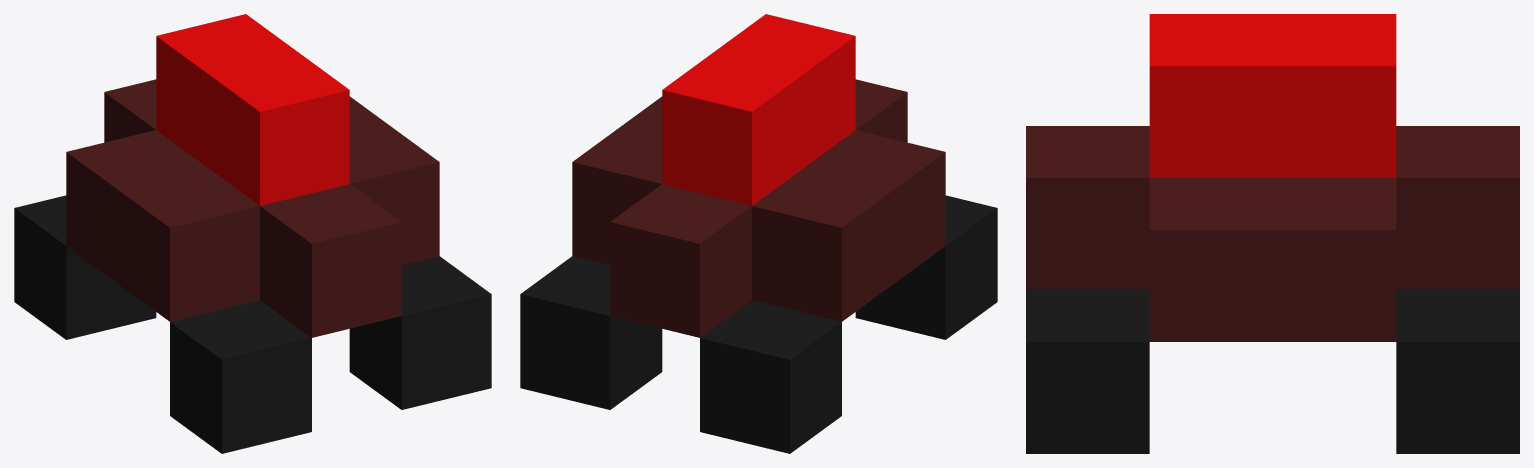
Rendered from KidsRoom-10.obj.
3 renders of one model, left to right at view 1: azimuth 30°, elevation 25°; view 2: azimuth 150°, elevation 25°; view 3: azimuth 270°, elevation 25°, orthographic. The views are drawn at different scales.
Size of the model in its own units: 0.3 by 0.3 by 0.4.
1 material, 1 textured.
